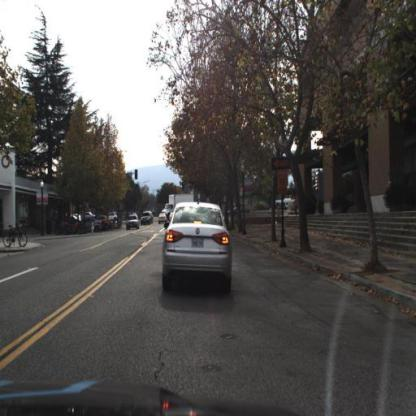car: (161, 204, 233, 296), (126, 213, 139, 234), (86, 217, 104, 232), (126, 214, 140, 231), (99, 215, 109, 231), (160, 213, 168, 225)
trafficLight-Red: (182, 180, 187, 192)
